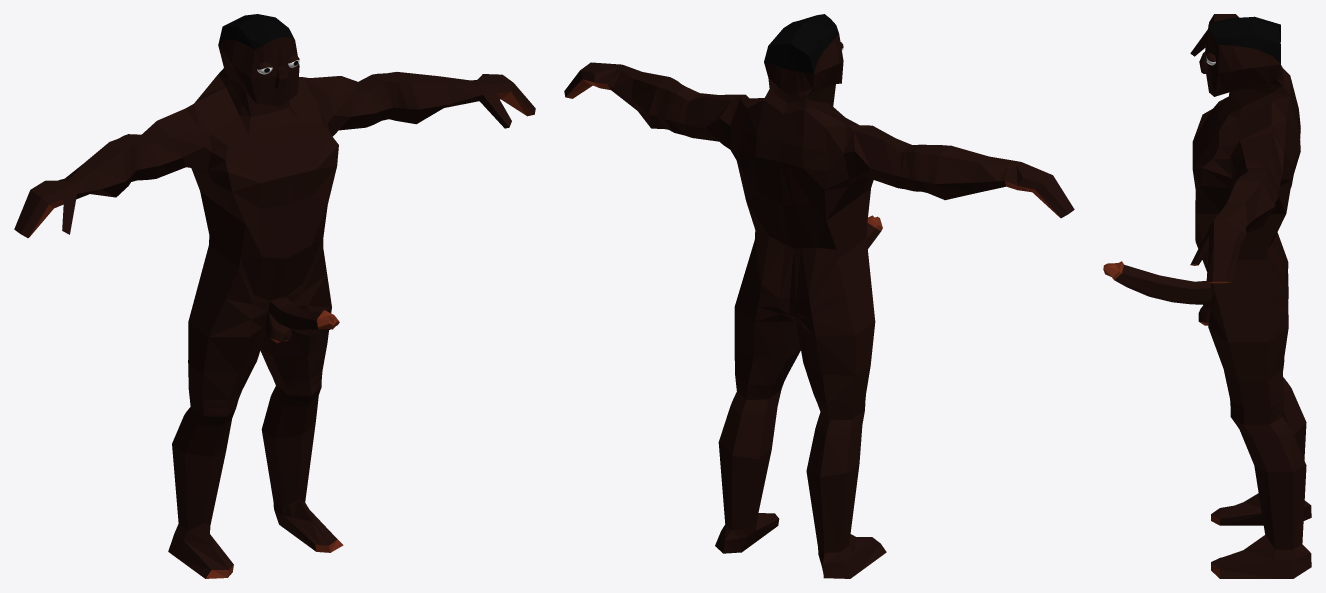
The model's file is Reginaldo.fbx.
3 views of the same model, side by side, from view 1: azimuth 30°, elevation 25°; view 2: azimuth 150°, elevation 25°; view 3: azimuth 270°, elevation 25° (orthographic). The views are drawn at different scales.
Parts seen in each view (by area): view 1: Reginaldo; view 2: Reginaldo; view 3: Reginaldo.
Boxes of the visible parts, x1,y1,x2,y2 form: Reginaldo: (14,14,535,578); Reginaldo: (564,14,1074,578); Reginaldo: (1103,14,1311,578).
Size of the model in its own units: 1.79 by 1.78 by 0.6349.
